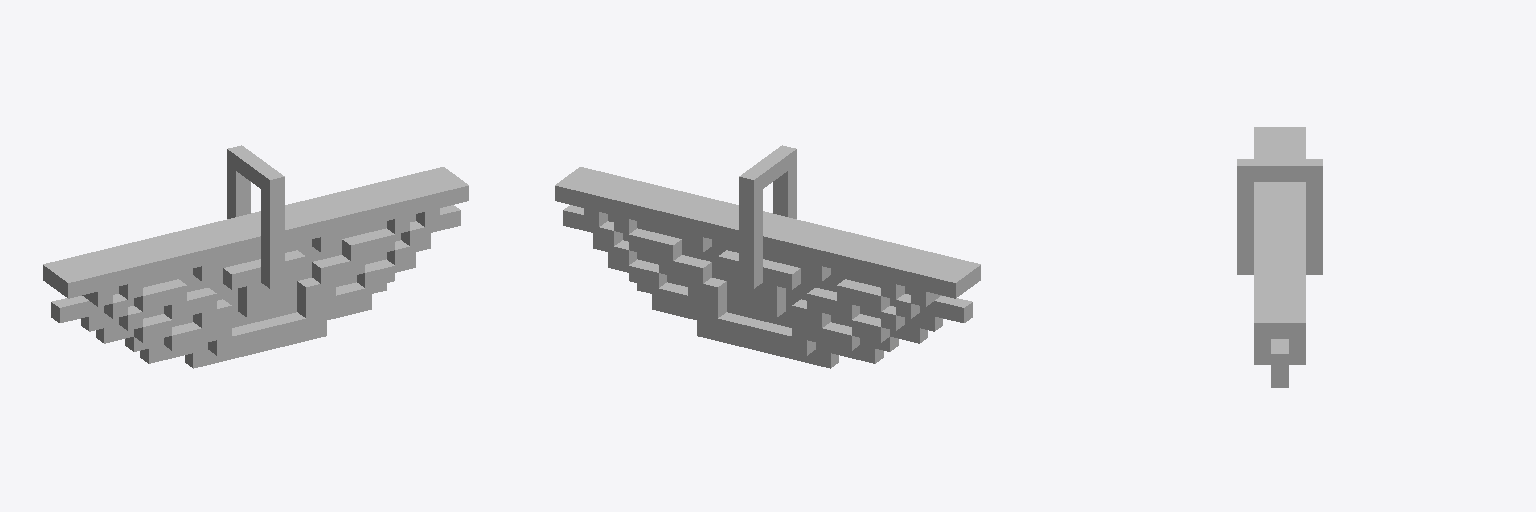
The model's file is Axe.obj.
The picture shows the model from 3 angles: view 1: azimuth 30°, elevation 25°; view 2: azimuth 150°, elevation 25°; view 3: azimuth 270°, elevation 25°; orthographic projection.
Parts seen in each view (by area): view 1: Axe; view 2: Axe; view 3: Axe.
Boxes of the visible parts, <box> form: Axe: <box>43,145,468,368</box>; Axe: <box>555,145,980,368</box>; Axe: <box>1237,127,1322,387</box>.
Bounding box in the file's own units: 27 × 12 × 5.